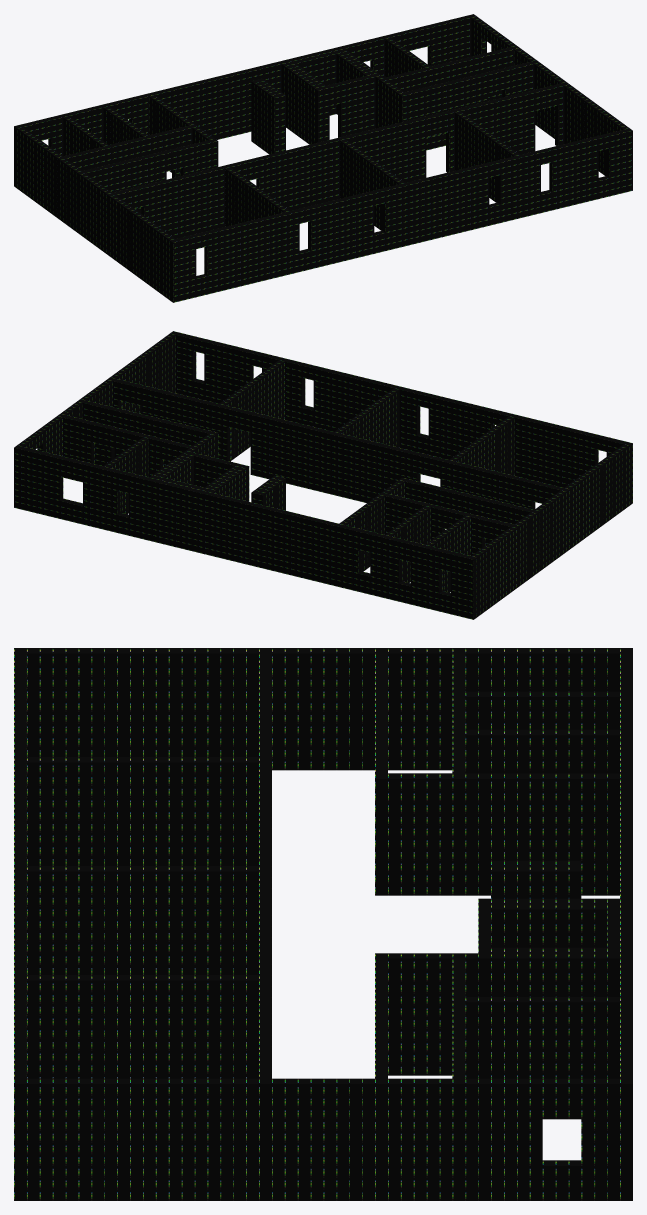
File: convitto_primopiano_uvs.gltf
3 views of the same model, one above another, from view 1: azimuth 30°, elevation 25°; view 2: azimuth 150°, elevation 25°; view 3: azimuth 270°, elevation 25° (orthographic). The views are drawn at different scales.
Visible parts, largest first — view 1: Layer.1, Layer.7, Layer.17, Layer.2, Layer.6, Layer.9, Layer.8, Layer.18, Layer.11, Layer.10, Layer.4, Layer.5 (+11 smaller); view 2: Layer.17, Layer.1, Layer.7, Layer.2, Layer.6, Layer.11, Layer.9, Layer.10, Layer.5, Layer.8, Layer.3, Layer.4 (+9 smaller); view 3: Layer.6, Layer.2, Layer.14, Layer.3, Layer.4, Layer.5, Layer.15, Layer.16, Layer.1, Layer.17, Layer.13, Layer.12 (+9 smaller).
Boxes of the visible parts, x1,y1,x2,y2 form: Layer.1: (170, 128, 632, 302); Layer.7: (113, 83, 564, 238); Layer.17: (14, 14, 476, 188); Layer.2: (17, 127, 174, 300); Layer.6: (471, 16, 629, 175); Layer.9: (399, 61, 534, 150); Layer.8: (83, 139, 218, 213); Layer.18: (315, 74, 375, 143); Layer.11: (385, 47, 514, 100); Layer.10: (63, 125, 192, 178); Layer.4: (340, 139, 404, 230); Layer.5: (455, 111, 519, 202); Layer.17: (14, 445, 476, 619); Layer.1: (170, 331, 632, 505); Layer.7: (112, 378, 563, 509); Layer.2: (472, 444, 629, 617); Layer.6: (17, 333, 175, 456); Layer.11: (63, 415, 191, 477); Layer.9: (82, 400, 218, 466); Layer.10: (384, 493, 513, 555); Layer.5: (219, 360, 284, 460); Layer.8: (399, 477, 533, 544); Layer.3: (449, 416, 514, 475); Layer.4: (334, 388, 399, 447); Layer.6: (27, 1078, 619, 1200); Layer.2: (27, 648, 619, 770); Layer.14: (388, 773, 619, 895); Layer.3: (27, 757, 258, 865); Layer.4: (27, 866, 258, 974); Layer.5: (27, 975, 258, 1078); Layer.15: (388, 953, 619, 1075); Layer.16: (465, 997, 619, 1119); Layer.1: (14, 648, 26, 1200); Layer.17: (620, 648, 632, 1200); Layer.13: (465, 729, 619, 773); Layer.12: (465, 691, 619, 729).
Bounding box in the file's own units: 80 × 10 × 48.
Materials: 1 (1 with a texture image).
